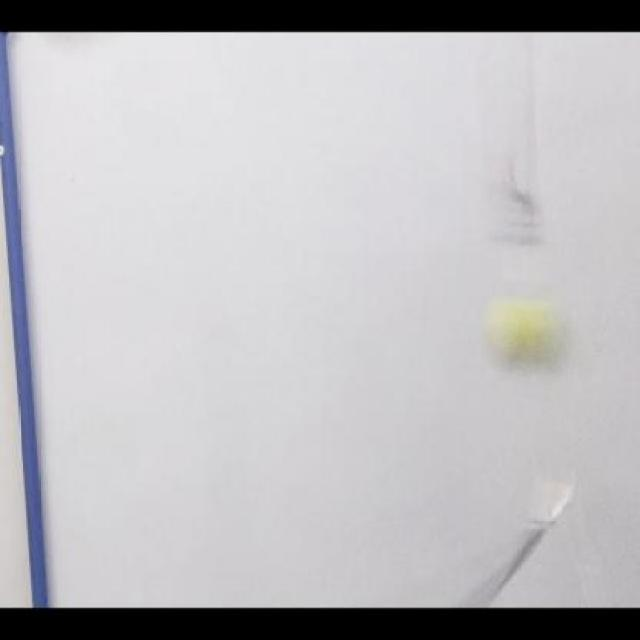baseball: (478, 297, 571, 374)
